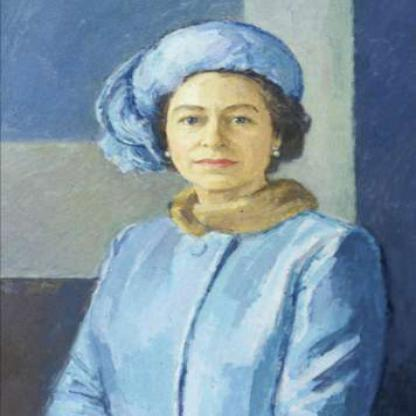face: (163, 56, 278, 190)
